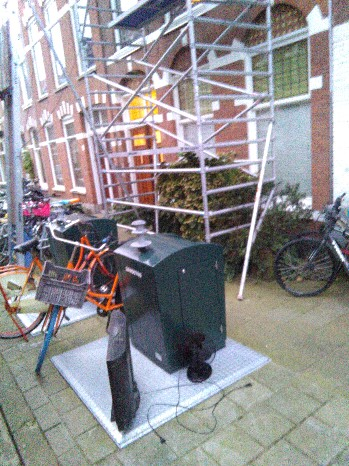Container: (123, 233, 222, 342)
Rest: (97, 317, 142, 419), (182, 343, 232, 396)
Voertuig: (38, 228, 116, 315), (287, 220, 349, 329), (10, 240, 75, 339)
